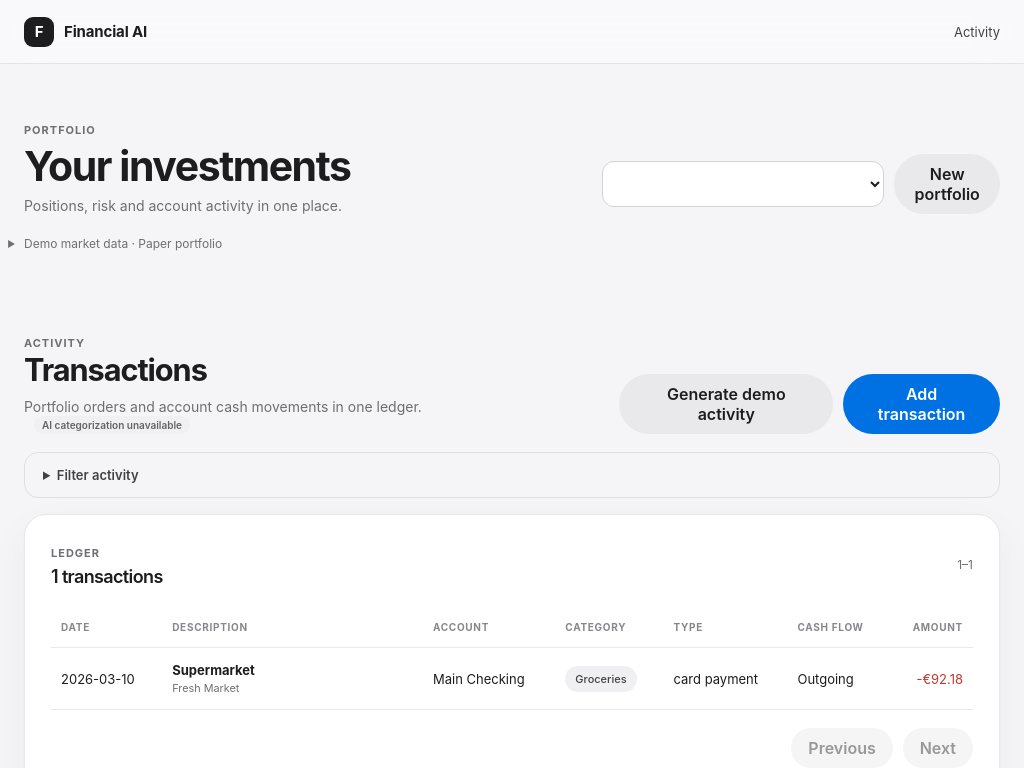
Test case: does not auto-apply a suggestion that requires review
Click the button "Add transaction": (922, 404) [843,374,1000,434]
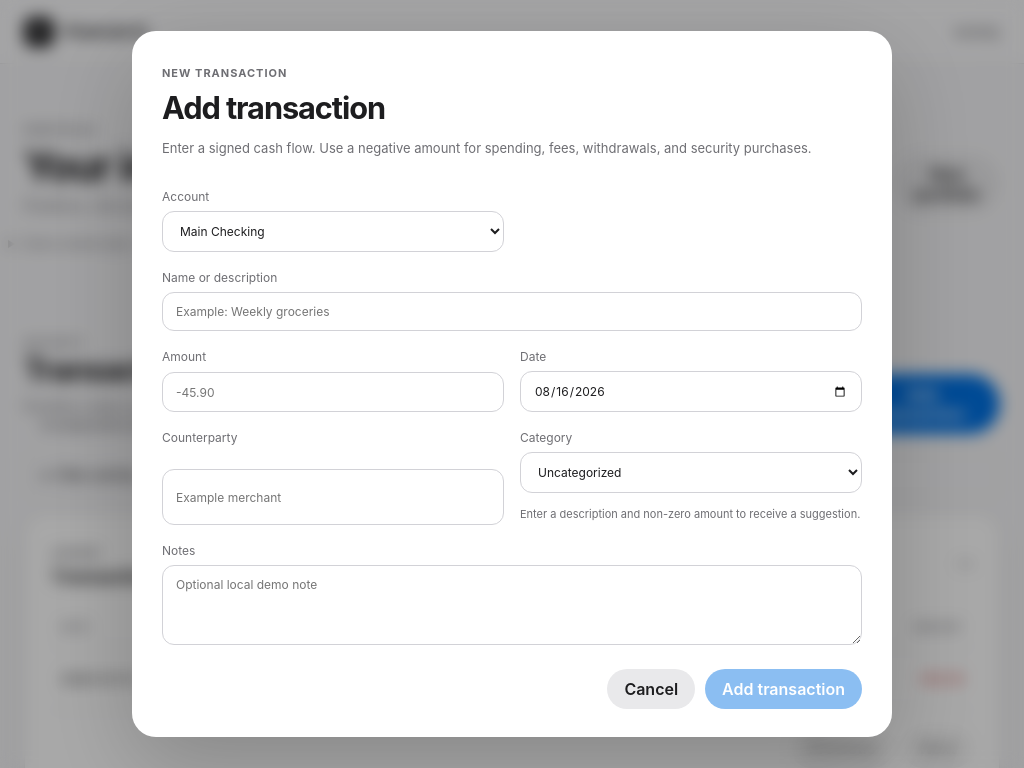
In the field labelled "Name or description": (512, 312) [162,292,862,331], type "Unknown payment"
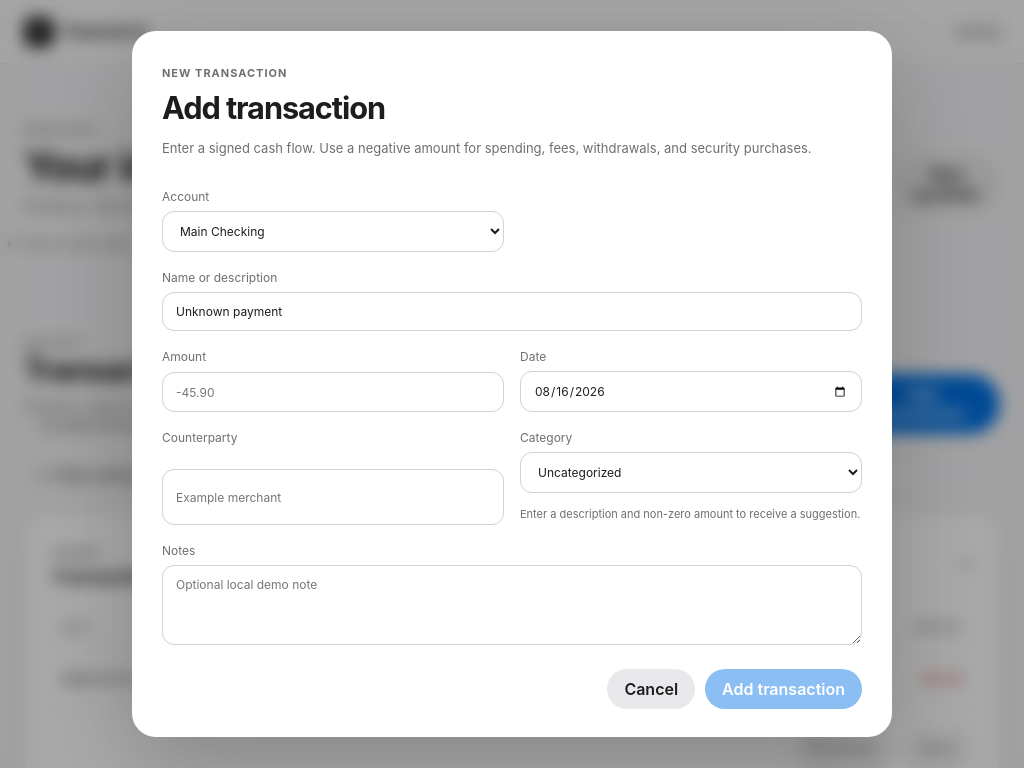
In the number field labelled "Amount": (333, 392) [162,372,504,412], type "-950"
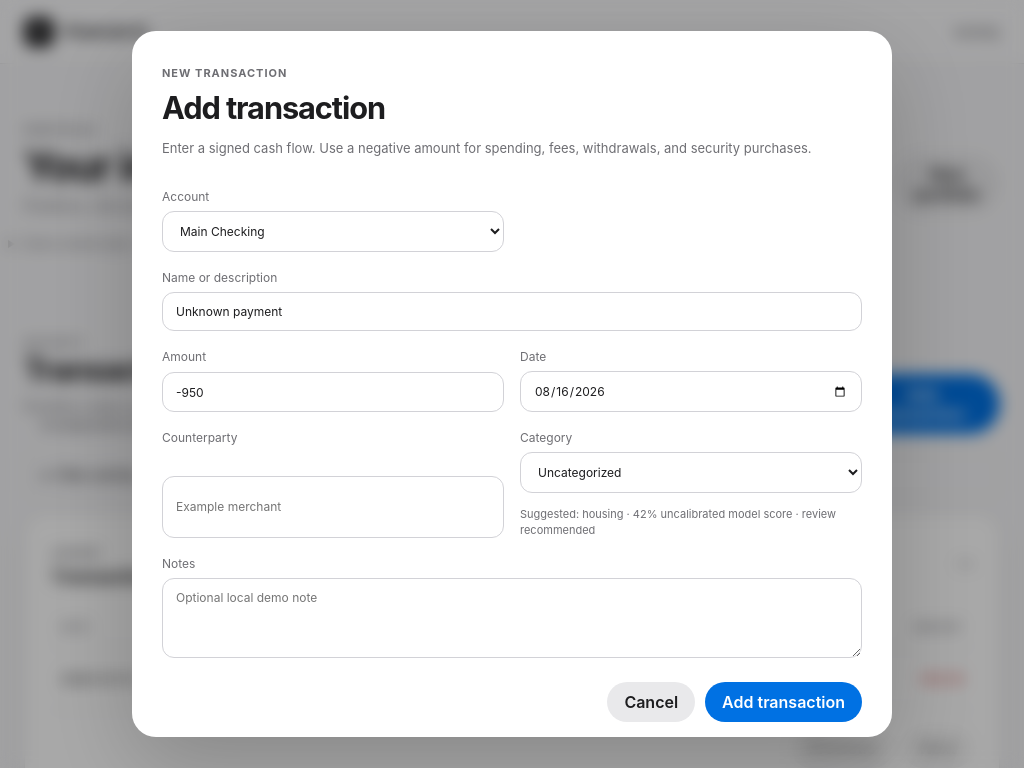
Now the dropdown labelled "Category" shows "Uncategorized", box [520,452,862,493]
Now the text "uncalibrated model score" is shown, box [520,507,836,537]
